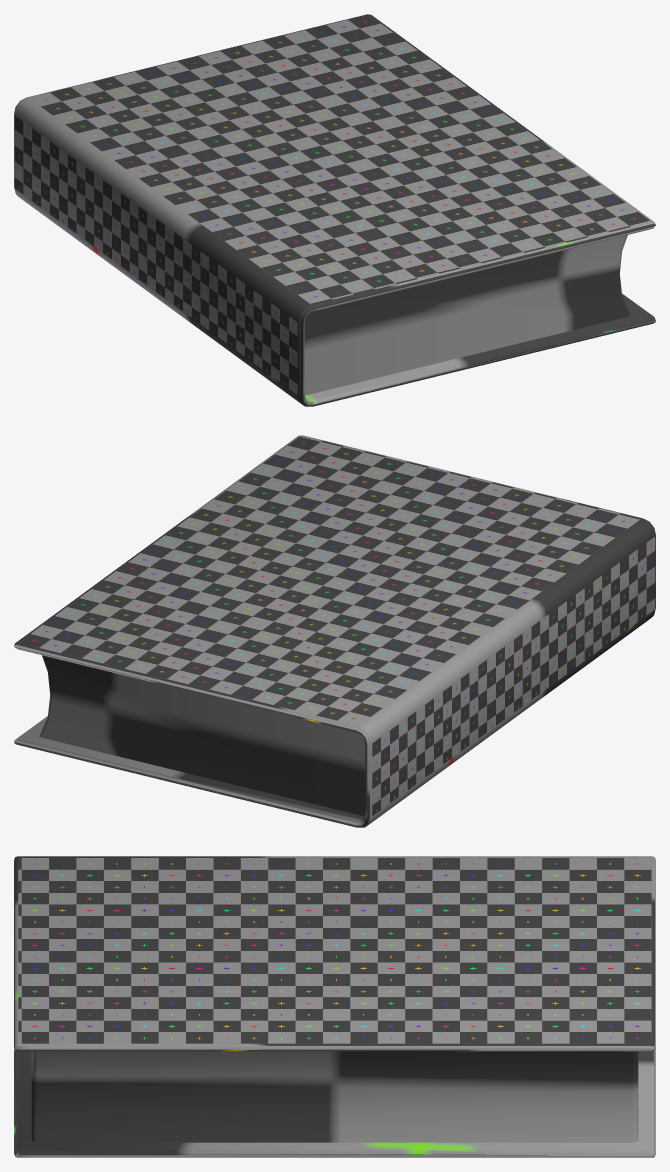
Rendered from book.gltf.
The picture shows the model from 3 angles, top to bottom: view 1: azimuth 30°, elevation 25°; view 2: azimuth 150°, elevation 25°; view 3: azimuth 270°, elevation 25°; orthographic projection. The views are drawn at different scales.
Visible parts, largest first — view 1: Cover; view 2: Cover; view 3: Cover.
Boxes of the visible parts, bbox=[...] form: Cover: bbox=[14, 14, 655, 406]; Cover: bbox=[14, 435, 655, 827]; Cover: bbox=[14, 856, 655, 1157].
Bounding box in the file's own units: 79.97 × 21.72 × 111.
Materials: 1 (1 with a texture image).
